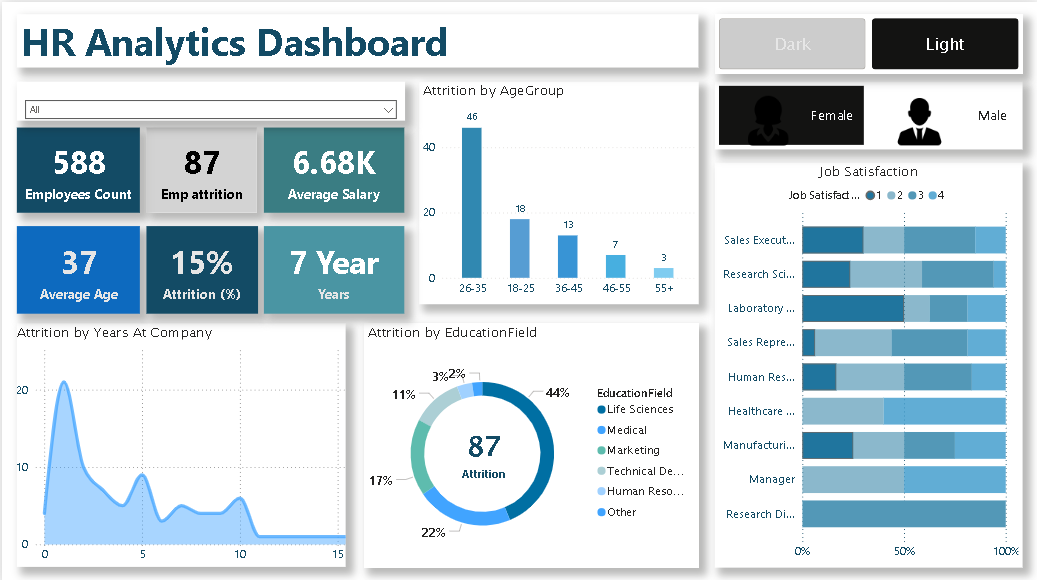

Layout of this report page (visuals, bound fields, positions):
{"tool":"powerbi","page":{"name":"Page 1","canvas":[1280,720],"ordinal":0},"visuals":[{"type":"image","box":[891.7,101.7,98.3,75],"z":2000},{"type":"image","box":[1091.7,101.7,98.3,75],"z":3000},{"type":"card","fields":{"Values":["HR_Analytics.Employee_Count"]},"box":[18.3,103.3,151.7,105],"z":4000},{"type":"card","fields":{"Values":["HR_Analytics.Employees_attrition"]},"box":[178.3,101.7,136.7,105],"z":5000},{"type":"card","fields":{"Values":["HR_Analytics.year_with_text"]},"box":[325,216.7,171.7,105],"z":6000},{"type":"card","fields":{"Values":["HR_Analytics.attrition%"]},"box":[178.3,216.7,136.7,105],"z":7000},{"type":"card","fields":{"Values":["HR_Analytics.Avg_Salary"]},"box":[325,101.7,171.7,105],"z":8000},{"type":"donutChart","title":"Attrition by EducationField","fields":{"Y":["HR_Analytics.Employees_attrition"],"Category":["HR_Analytics.EducationField"]},"box":[448,394,414,302],"z":8500},{"type":"areaChart","title":"Attrition by Years At Company","fields":{"Category":["HR_Analytics.YearsAtCompany"],"Y":["HR_Analytics.Employees_attrition"]},"box":[18,394,408,302],"z":9000},{"type":"columnChart","title":"Attrition by AgeGroup","fields":{"Category":["HR_Analytics.AgeGroup"],"Y":["HR_Analytics.Employees_attrition"]},"box":[515,103.3,345,275],"z":11000},{"type":"card","fields":{"Values":["HR_Analytics.Avg_age"]},"box":[18.3,216.7,151.7,105],"z":12000},{"type":"hundredPercentStackedBarChart","title":"Job Satisfaction","fields":{"Y":["HR_Analytics.Employees_attrition"],"Series":["HR_Analytics.JobSatisfaction"],"Category":["HR_Analytics.JobRole"]},"box":[880,195,380,500],"z":13000},{"type":"advancedSlicerVisual","fields":{"Values":["HR_Analytics.Gender"]},"box":[880,97.1,380,84.3],"z":14000},{"type":"advancedSlicerVisual","fields":{"Values":["HR_Analytics.Department"]},"box":[18.3,331.7,478.3,56.7],"z":15000},{"type":"textbox","title":"  HR Analytics Dashboard","box":[18.3,13.3,703.3,76.7],"z":16000},{"type":"card","fields":{"Values":["HR_Analytics.Employees_attrition"]},"box":[550,501.7,90,91.7],"z":17000}]}

Visuals, with their boxes in screenshot pixels (x1, y1, x2, y2), scaled from the page's 1280x720 canvas onto the 1037x580 screenshot:
image: bbox=[722, 82, 802, 142]
image: bbox=[884, 82, 964, 142]
card - HR_Analytics.Employee_Count: bbox=[15, 83, 138, 168]
card - HR_Analytics.Employees_attrition: bbox=[144, 82, 255, 167]
card - HR_Analytics.year_with_text: bbox=[263, 175, 402, 259]
card - HR_Analytics.attrition%: bbox=[144, 175, 255, 259]
card - HR_Analytics.Avg_Salary: bbox=[263, 82, 402, 167]
"Attrition by EducationField" donutChart: bbox=[363, 317, 698, 561]
"Attrition by Years At Company" areaChart: bbox=[15, 317, 345, 561]
"Attrition by AgeGroup" columnChart: bbox=[417, 83, 697, 305]
card - HR_Analytics.Avg_age: bbox=[15, 175, 138, 259]
"Job Satisfaction" hundredPercentStackedBarChart: bbox=[713, 157, 1021, 560]
advancedSlicerVisual - HR_Analytics.Gender: bbox=[713, 78, 1021, 146]
advancedSlicerVisual - HR_Analytics.Department: bbox=[15, 267, 402, 313]
"  HR Analytics Dashboard" textbox: bbox=[15, 11, 585, 72]
card - HR_Analytics.Employees_attrition: bbox=[446, 404, 518, 478]
